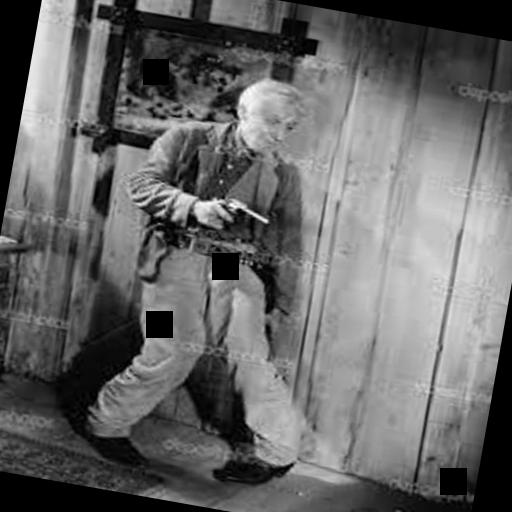Handgun: (210, 194, 270, 220)
